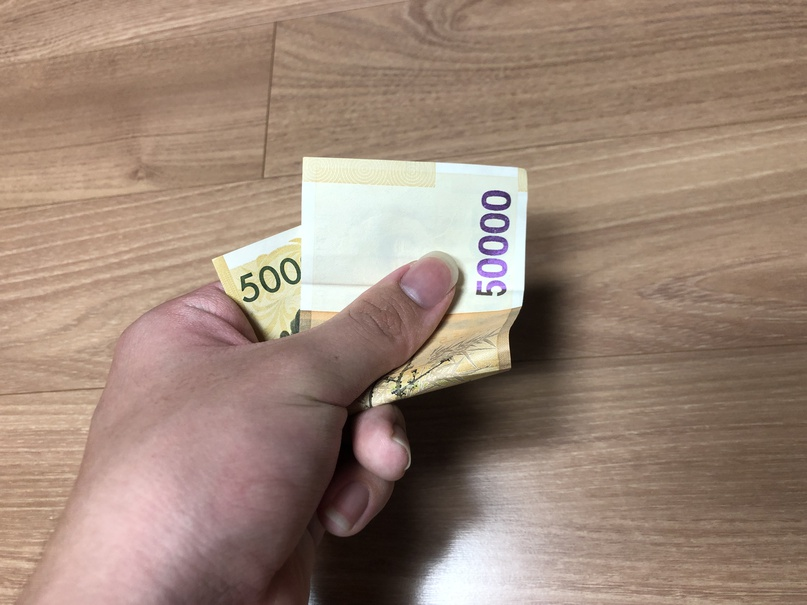50000won: (208, 157, 528, 410)
